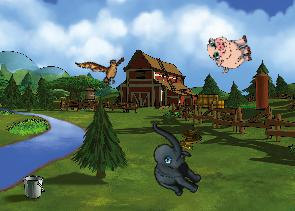eagle: (75, 43, 132, 95)
elephant: (129, 121, 216, 202)
pig: (204, 27, 255, 75)
